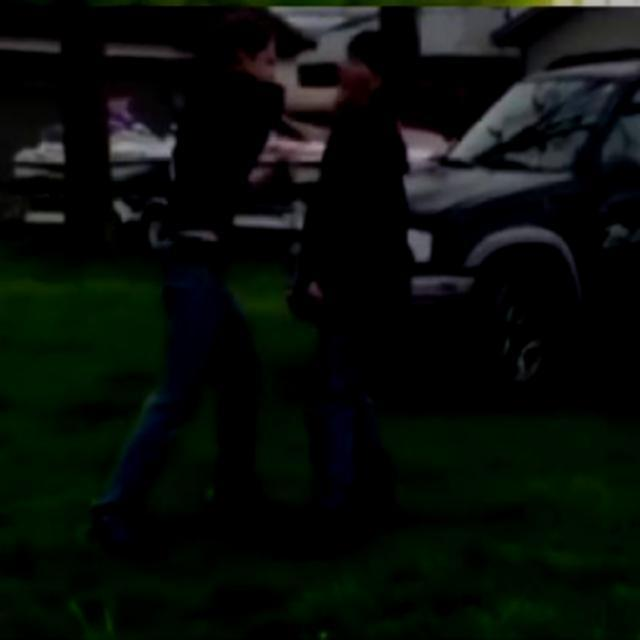fight: (166, 17, 411, 517)
